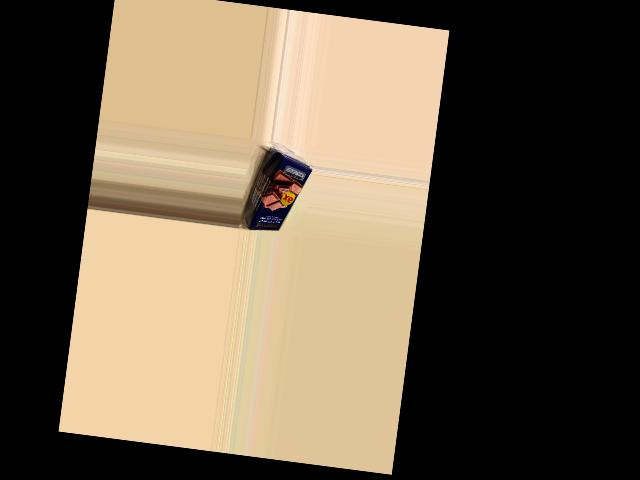chocolate: (243, 151, 314, 236)
